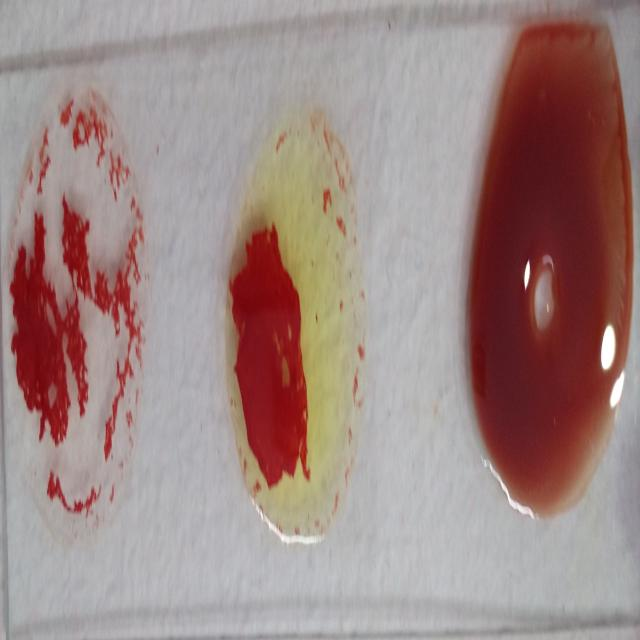B: (214, 100, 366, 543)
D: (13, 95, 138, 558)
